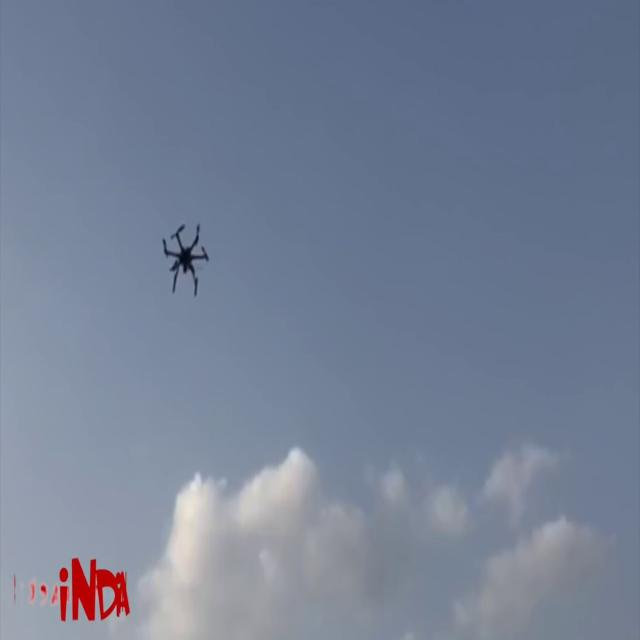drone: (152, 217, 219, 305)
